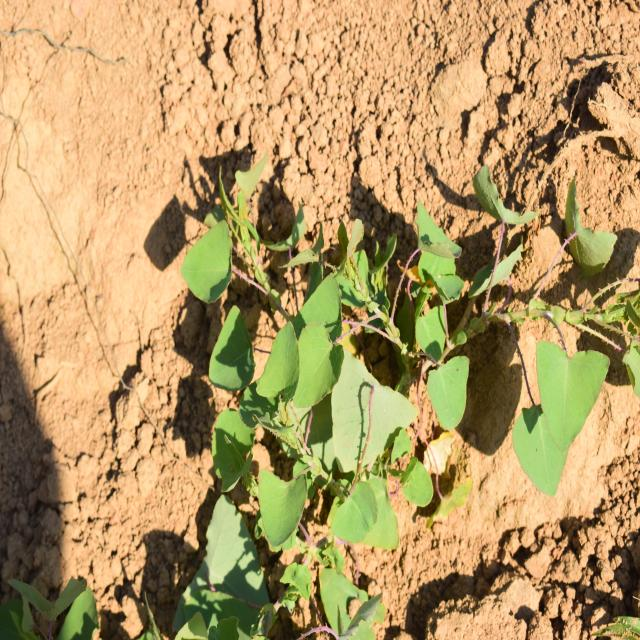Asiatic_Smartweed: (211, 298, 408, 563), (182, 154, 284, 315), (515, 331, 615, 491)
